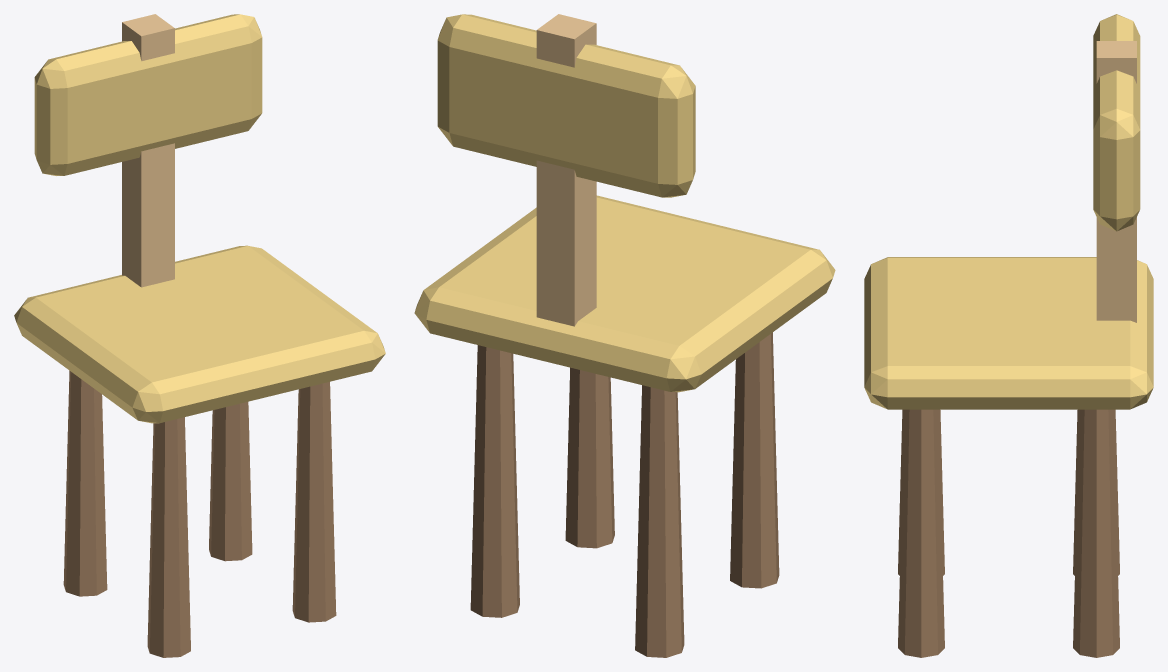
File: cozy-home-interiors-desk-chair-03b83468.glb
3 views of the same model, side by side, from view 1: azimuth 30°, elevation 25°; view 2: azimuth 150°, elevation 25°; view 3: azimuth 270°, elevation 25° (orthographic). The views are drawn at different scales.
Visible parts, largest first — view 1: desk-chair; view 2: desk-chair; view 3: desk-chair.
Boxes of the visible parts, box(x1,y1,x2,y2) form: desk-chair: box(14, 14, 385, 657); desk-chair: box(414, 14, 835, 657); desk-chair: box(864, 14, 1153, 657).
Bounding box in the file's own units: 0.45 × 0.92 × 0.43.
